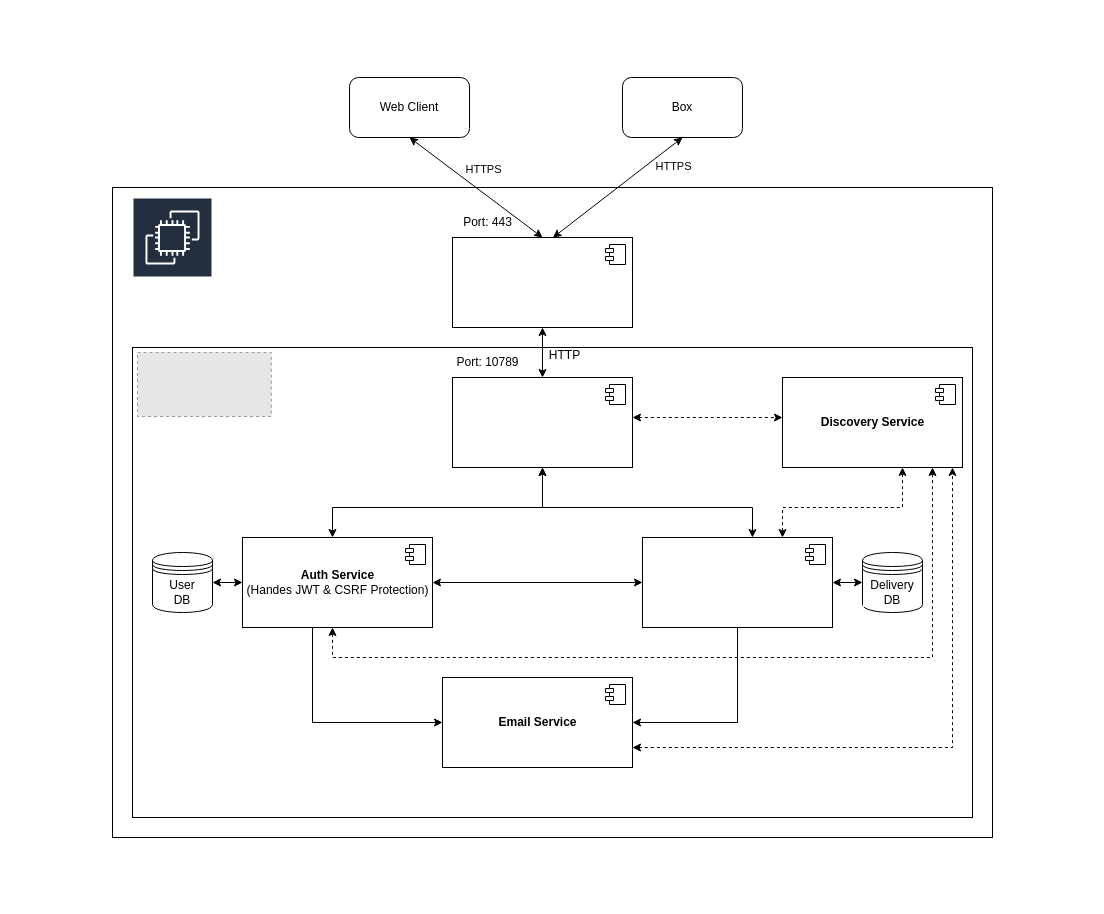
The diagram is 1104 pixels wide and 914 high, and some of its shapes have lost their labels. Grey dashed boxes stand in for pictures. Here are the shapes that lost their labels. From the top down, the centre of each, then its label:
[172,247]: Amazon EC2
[542,282]: Reverse Proxy
[542,422]: Gateway Service (Handles CORS Protection)
[737,582]: Delivery Service (Handes JWT & CSRF Protection)
